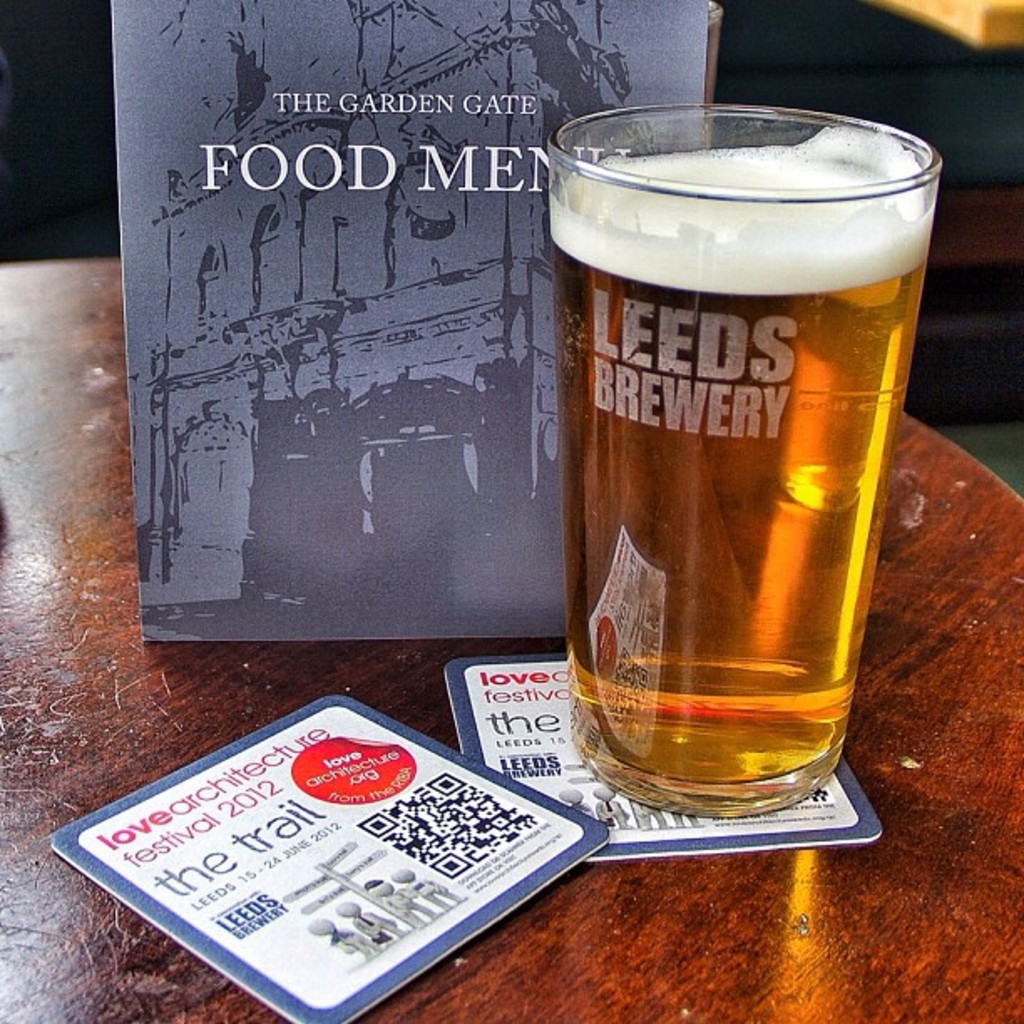Beer: (547, 81, 947, 826)
